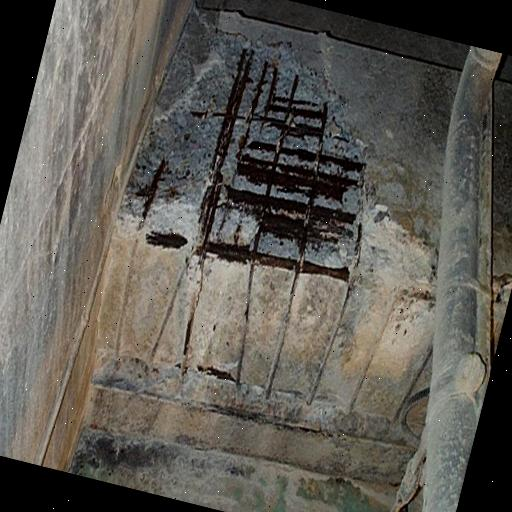spalling: (109, 10, 363, 284)
